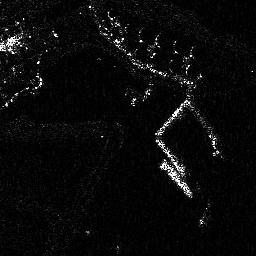ship: (158, 158, 194, 198)
